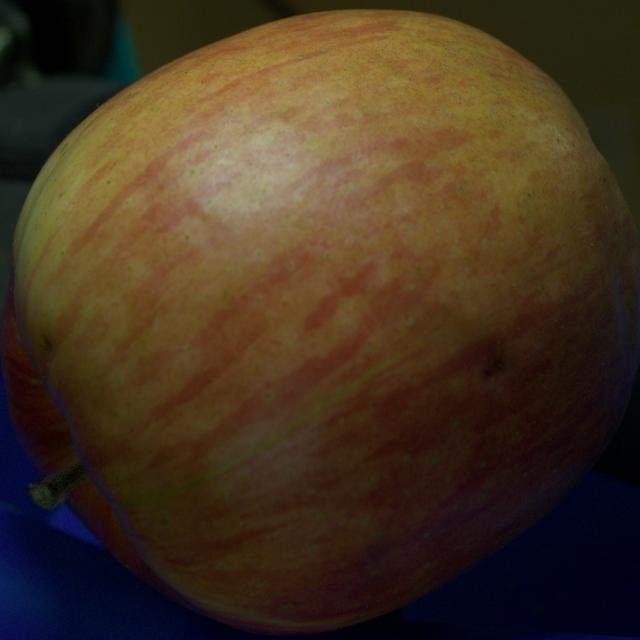apple: (2, 10, 639, 634)
pest: (486, 360, 502, 376), (42, 336, 51, 353)
